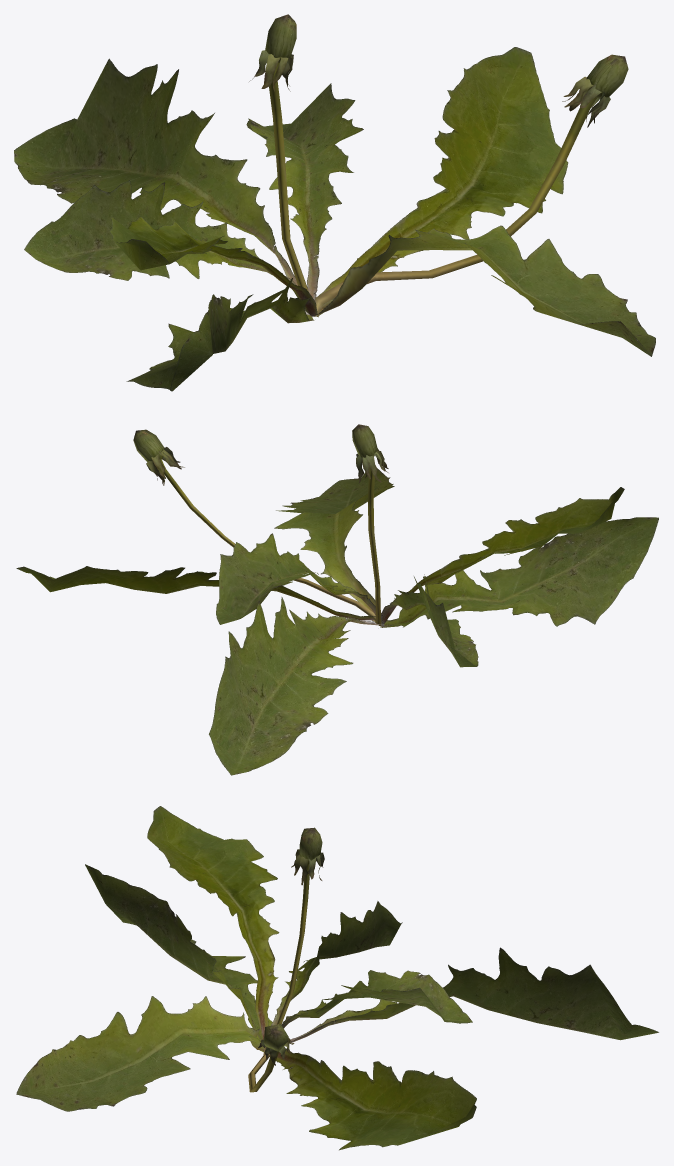
File: dandelion_01_d_LOD1.glb
3 renders of one model, top to bottom at view 1: azimuth 30°, elevation 25°; view 2: azimuth 150°, elevation 25°; view 3: azimuth 270°, elevation 25°, orthographic. The views are drawn at different scales.
Parts seen in each view (by area): view 1: dandelion_01_d_LOD1__lod0; view 2: dandelion_01_d_LOD1__lod0; view 3: dandelion_01_d_LOD1__lod0.
Boxes of the visible parts, box(x1,y1,x2,y2) form: dandelion_01_d_LOD1__lod0: box(14, 14, 655, 391); dandelion_01_d_LOD1__lod0: box(16, 424, 658, 775); dandelion_01_d_LOD1__lod0: box(16, 806, 658, 1150).
Size of what is drawn, in the model's own units: 0.1222 by 0.0558 by 0.1441.
Materials: 1 (1 with a texture image).
